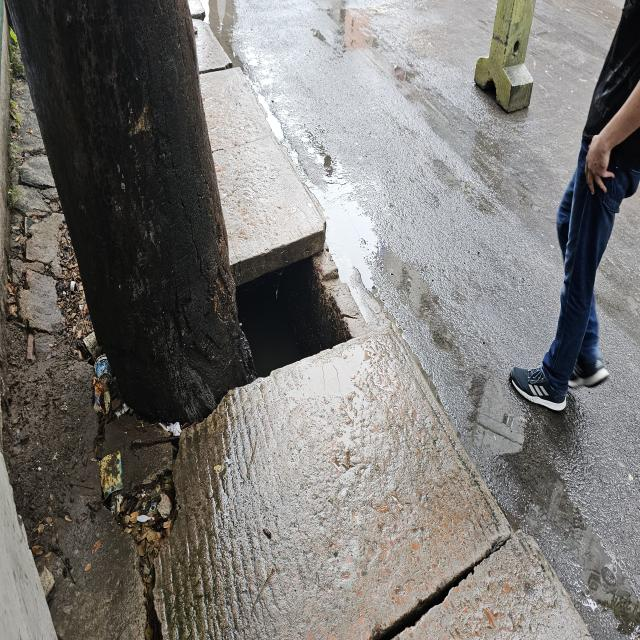drain_inlet: (229, 223, 370, 382)
